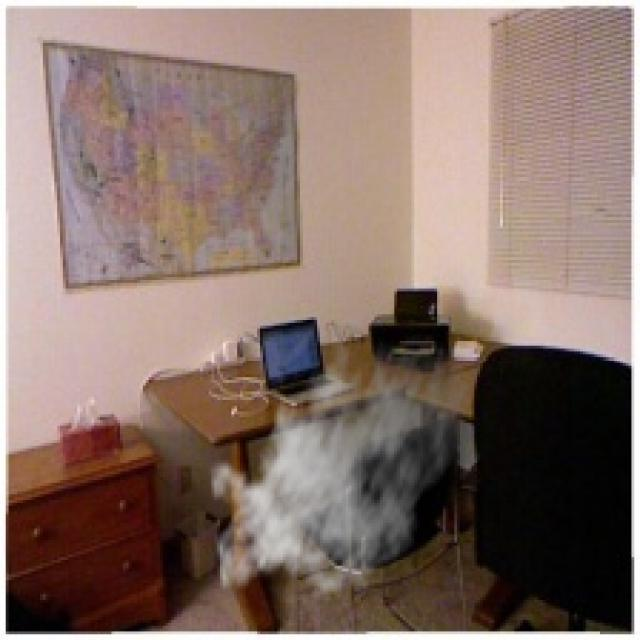Smoke: (208, 323, 472, 606)
